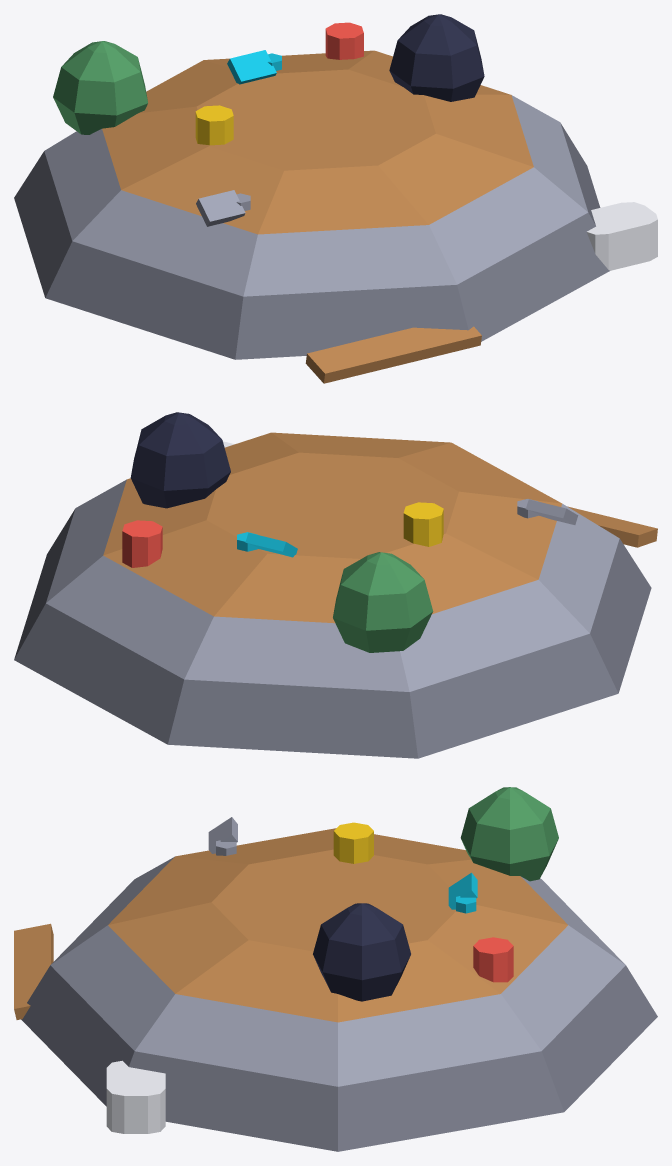
Rendered from mound-1x1-t1.glb.
3 renders of one model, top to bottom at view 1: azimuth 30°, elevation 25°; view 2: azimuth 150°, elevation 25°; view 3: azimuth 270°, elevation 25°, orthographic. The views are drawn at different scales.
Parts seen in each view (by area): view 1: mound-1x1-t1; view 2: mound-1x1-t1; view 3: mound-1x1-t1.
Part boxes in pixels (<box>): mound-1x1-t1: <box>14,14,657,383</box>; mound-1x1-t1: <box>14,412,657,758</box>; mound-1x1-t1: <box>14,787,657,1151</box>.
Size of the model in its own units: 0.76 by 0.2364 by 0.7651.
1 material, 1 textured.
